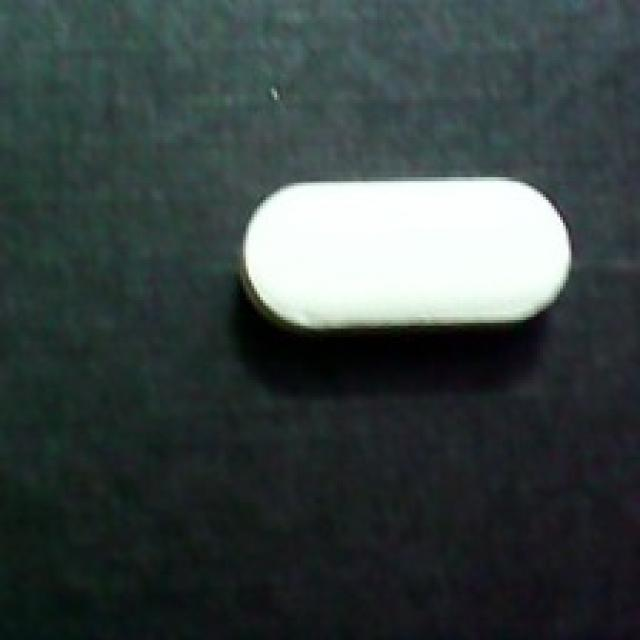no-defect: (237, 163, 577, 343)
